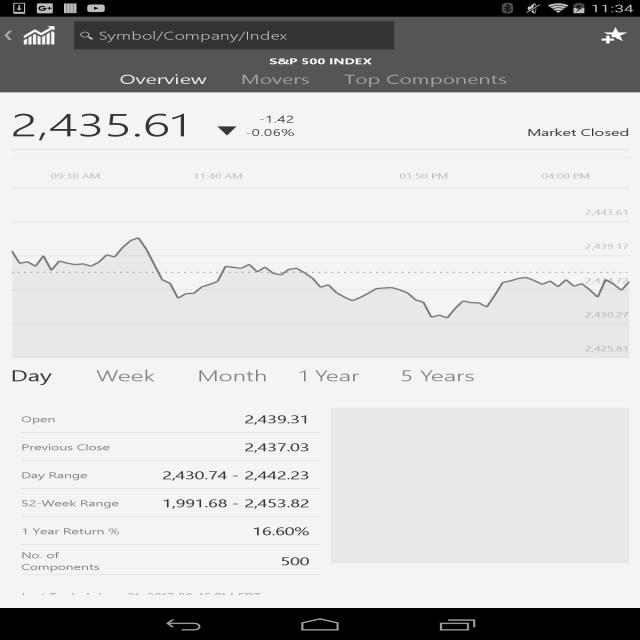EditText: (74, 22, 394, 49)
ImageView: (331, 408, 629, 563), (14, 19, 64, 52), (0, 30, 17, 41)
TextView: (0, 54, 640, 68), (11, 99, 189, 149), (294, 124, 630, 140), (333, 68, 531, 92), (22, 589, 260, 603), (21, 548, 139, 574), (109, 68, 230, 92), (162, 466, 320, 484), (162, 494, 320, 512), (230, 68, 333, 92), (96, 363, 192, 388), (198, 363, 294, 388), (298, 363, 394, 388), (400, 363, 496, 388), (10, 363, 90, 388), (589, 17, 640, 54), (21, 412, 139, 426), (21, 440, 139, 454), (21, 468, 139, 482), (21, 496, 139, 510), (21, 524, 139, 538), (244, 410, 320, 428), (244, 438, 320, 456), (252, 522, 320, 540), (216, 99, 238, 138), (281, 552, 320, 570), (246, 124, 294, 138), (246, 111, 294, 124)
